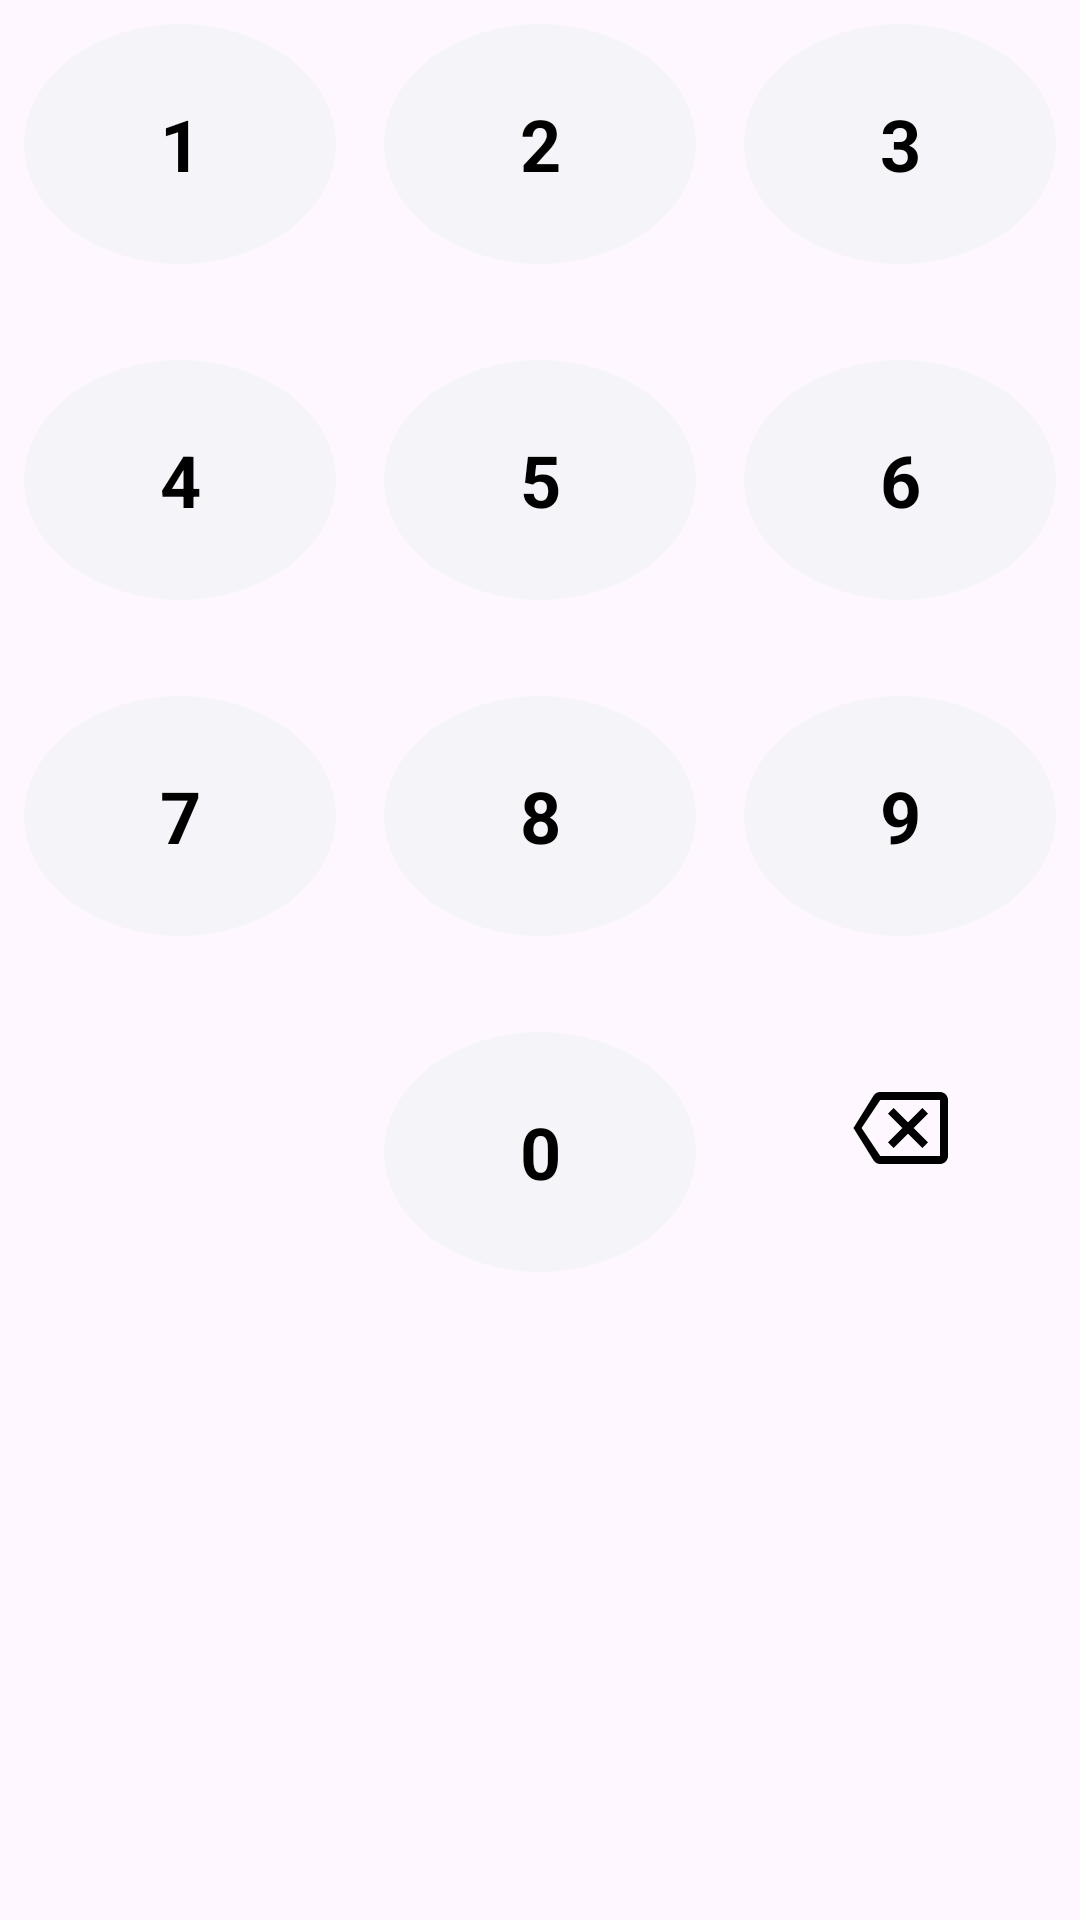

Named icons in this screenshot (1080 x 1920) and their bounding boxes, (left=x1, top=y1, right=x2, bottom=y2):
delete: (left=853, top=1092, right=948, bottom=1164)
